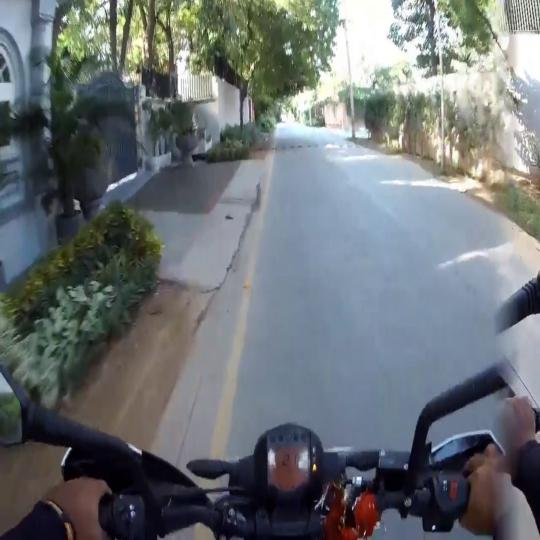Speed Bump: (270, 142, 364, 152)
